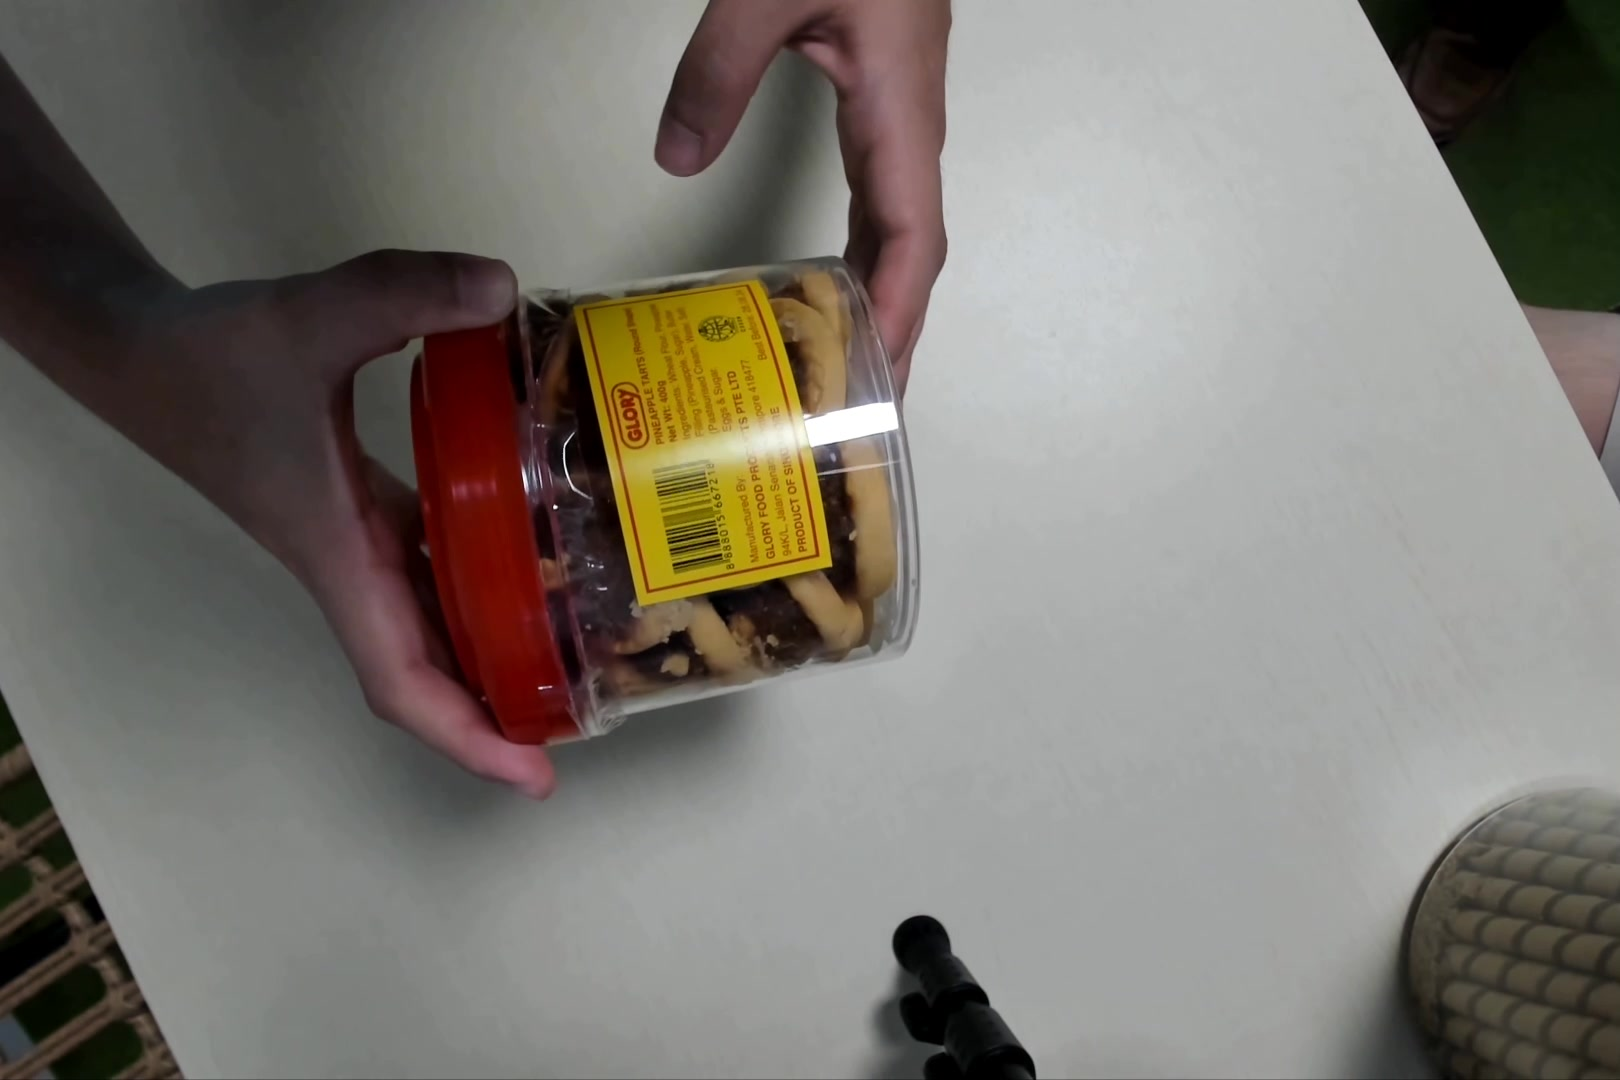BiscuitsCrackersCookies_400-499g_Halal_NonHealthy: (407, 260, 931, 755)
